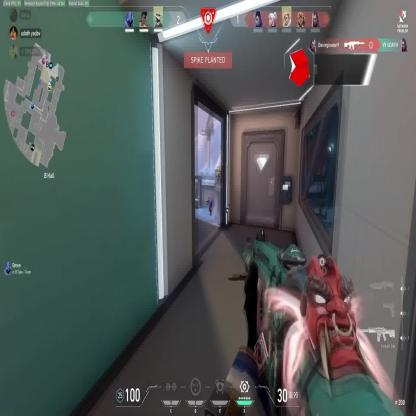enemy: (207, 196, 213, 217)
enemy_head: (209, 196, 212, 201)
